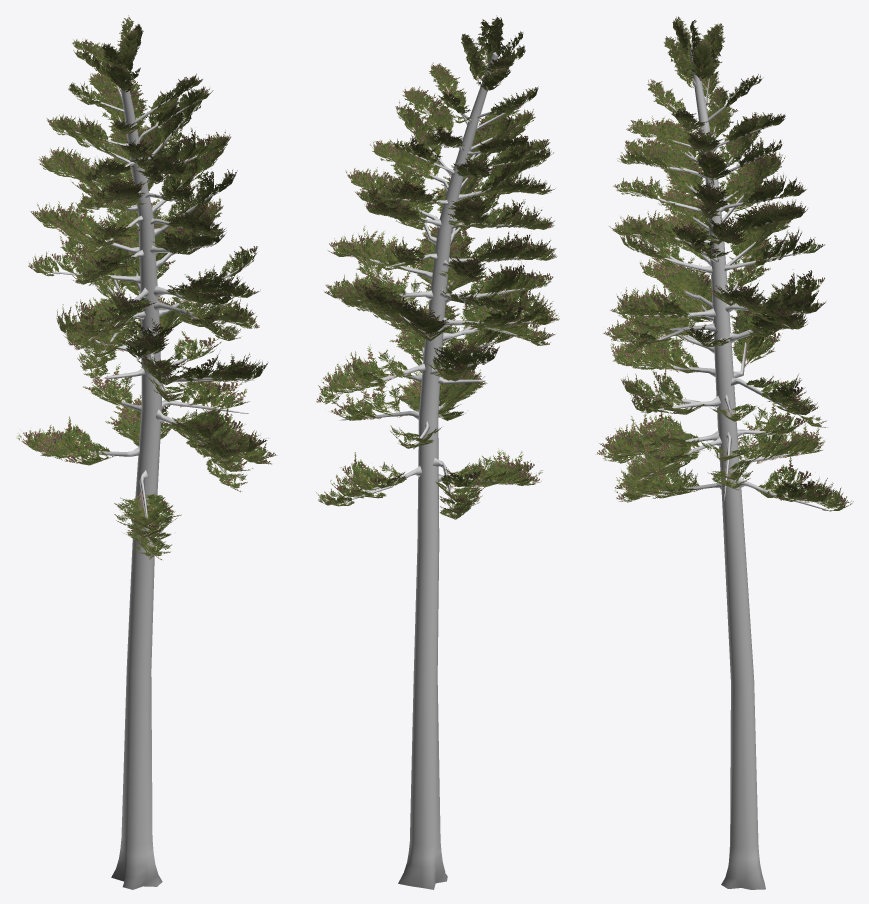
Rendered from RedCedar_Rand_mdl.fbx.
The picture shows the model from 3 angles, left to right: view 1: azimuth 30°, elevation 25°; view 2: azimuth 150°, elevation 25°; view 3: azimuth 270°, elevation 25°; orthographic projection. The views are drawn at different scales.
Parts seen in each view (by area): view 1: RedCedar_Rand_LOD0; view 2: RedCedar_Rand_LOD0; view 3: RedCedar_Rand_LOD0.
Boxes of the visible parts, box(x1,y1,x2,y2) form: RedCedar_Rand_LOD0: box(17, 15, 277, 889); RedCedar_Rand_LOD0: box(316, 15, 559, 889); RedCedar_Rand_LOD0: box(595, 16, 853, 889).
Bounding box in the file's own units: 833 × 3280 × 923.
